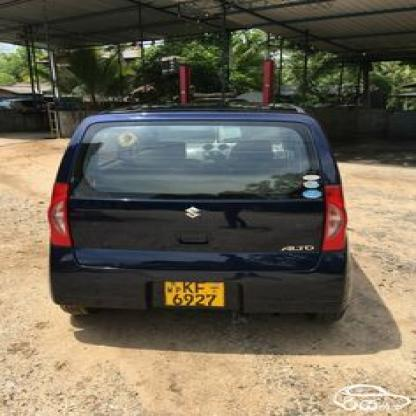car back: (47, 112, 345, 320)
number plate: (161, 279, 228, 307)
